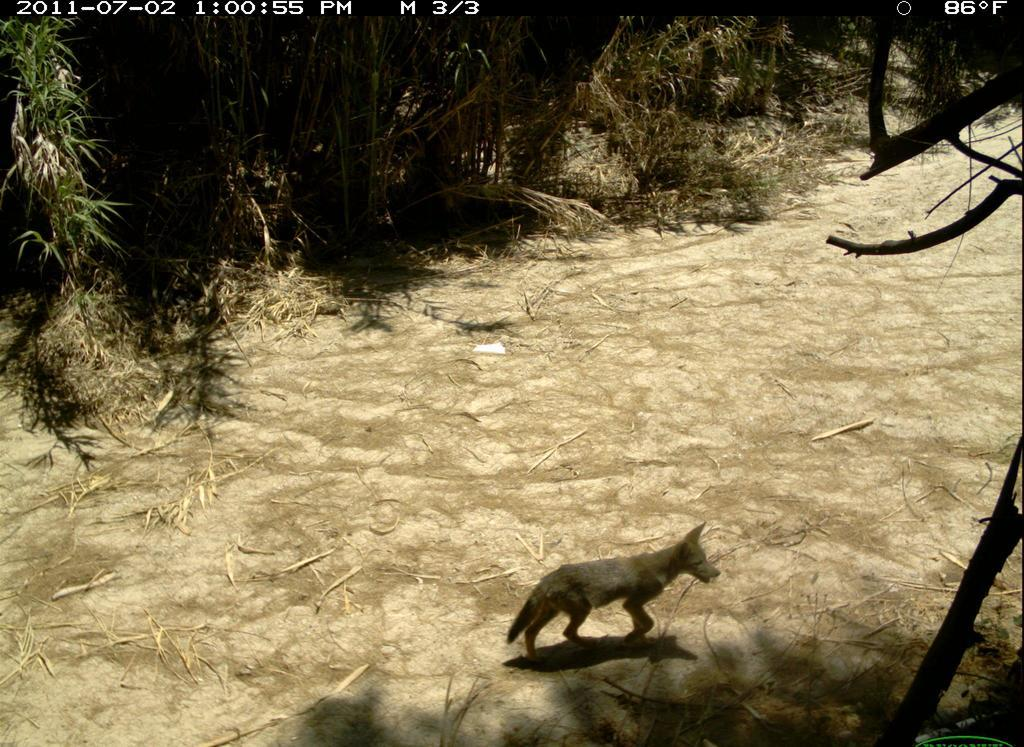coyote: (479, 520, 753, 681)
